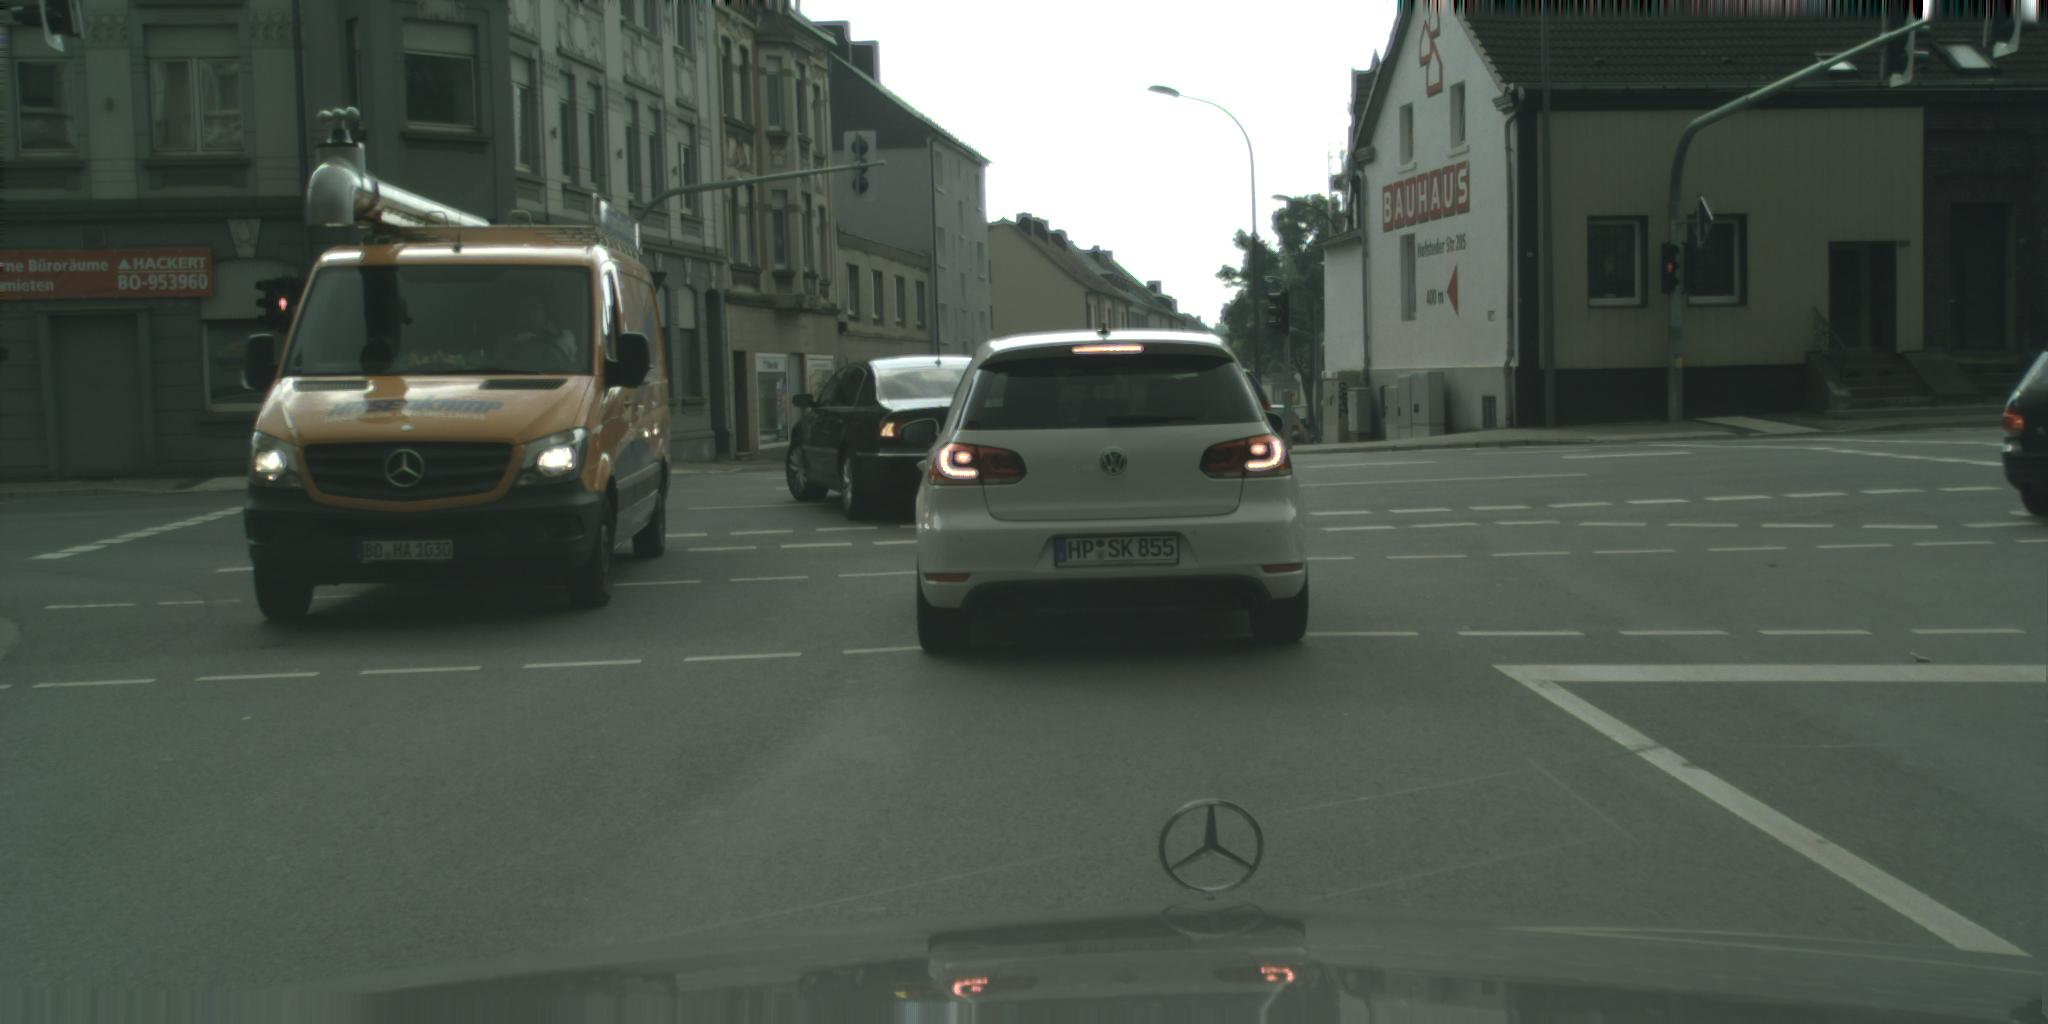car: (244, 104, 671, 627), (899, 323, 1309, 657), (785, 355, 1008, 524), (2002, 349, 2048, 521), (1209, 370, 1273, 436), (1249, 404, 1311, 447), (1281, 408, 1317, 443)
